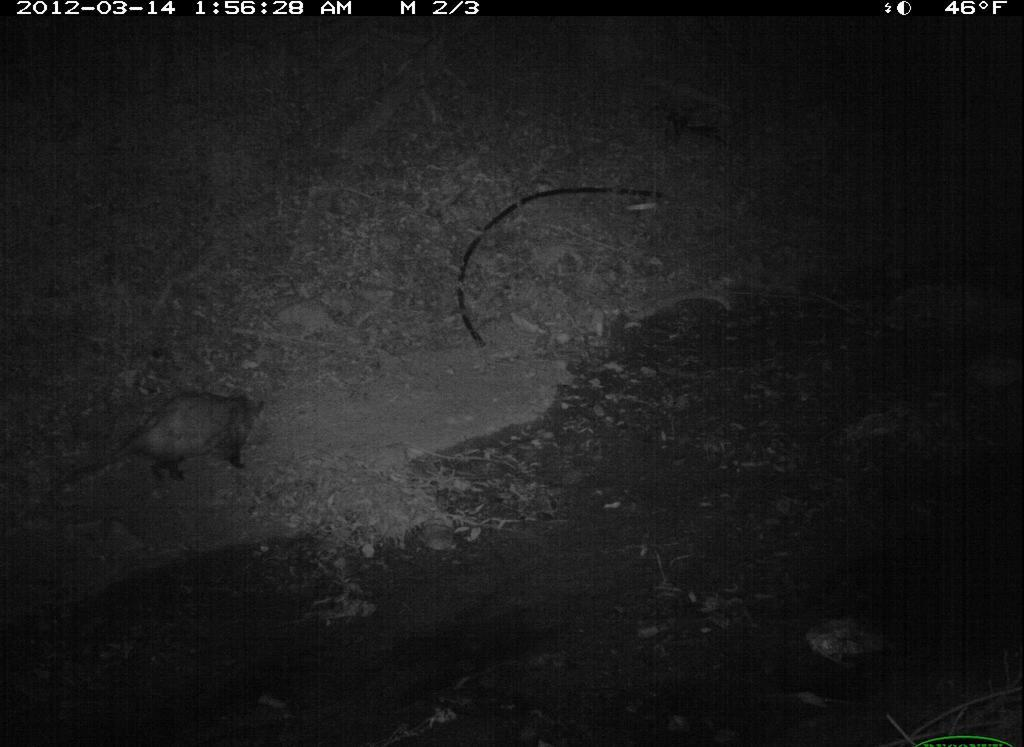opossum: (54, 379, 278, 506)
